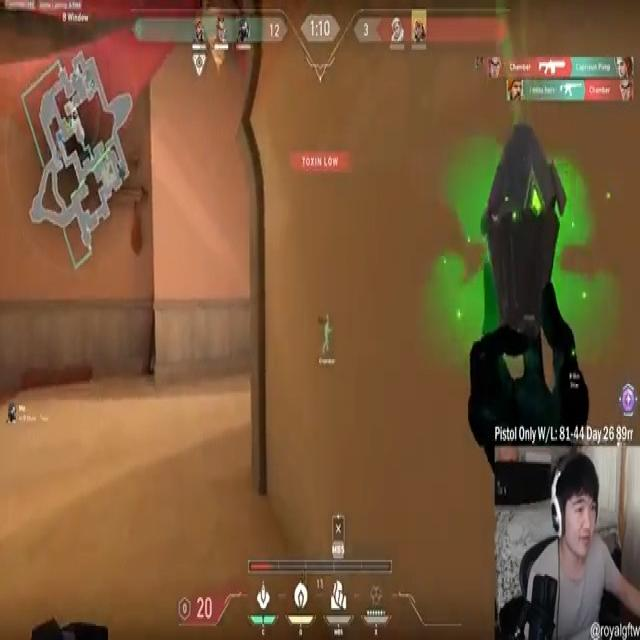ally behind wall: (319, 315, 335, 361)
